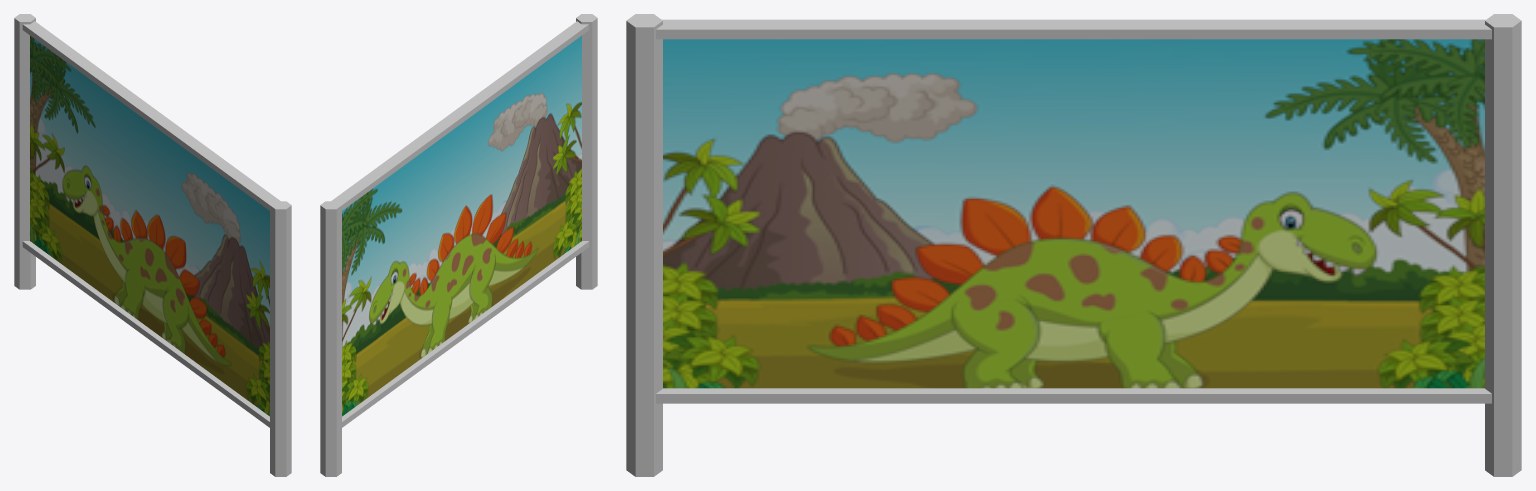
Rendered from guanggaopai_01.FBX.
The picture shows the model from 3 angles, left to right: view 1: azimuth 30°, elevation 25°; view 2: azimuth 150°, elevation 25°; view 3: azimuth 270°, elevation 25°; orthographic projection. The views are drawn at different scales.
Parts seen in each view (by area): view 1: guanggaopai_01; view 2: guanggaopai_01; view 3: guanggaopai_01.
Boxes of the visible parts, x1=… form: guanggaopai_01: x1=14, y1=14, x2=291, y2=476; guanggaopai_01: x1=320, y1=14, x2=597, y2=476; guanggaopai_01: x1=626, y1=14, x2=1521, y2=476.
Bounding box in the file's own units: 50.93 × 794 × 1433.
